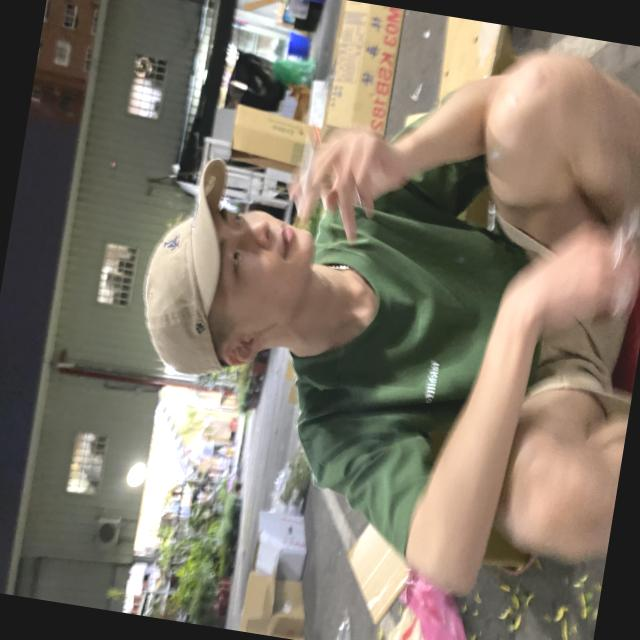smoke: (190, 190, 335, 348), (286, 118, 337, 205)
